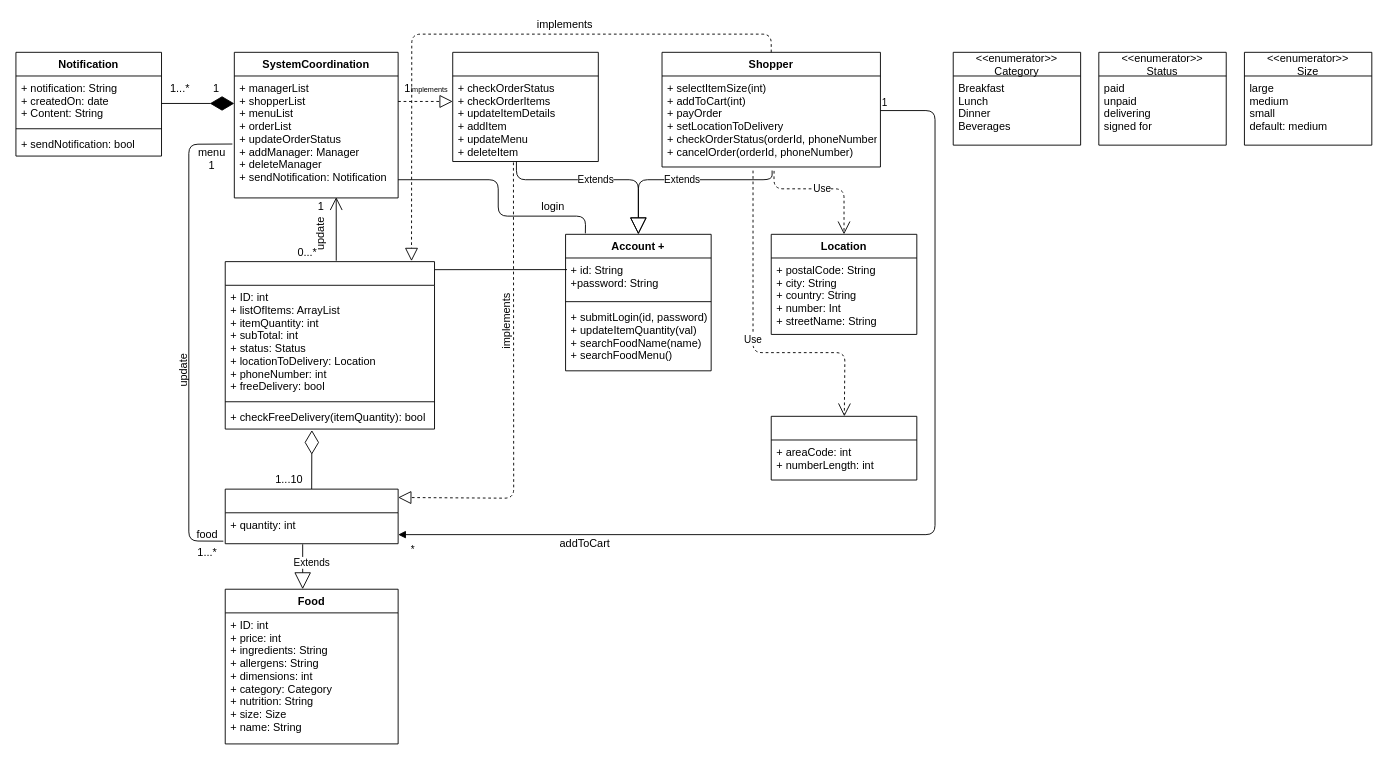
The diagram is 1388 pixels wide and 762 high, and some of its shapes have lost their labels. Here are the shapes that lost their labels. From the top down, the box of each, then its label:
(452, 51, 598, 162): Manager
(224, 261, 435, 429): Order
(770, 415, 917, 480): PhoneNumber
(224, 488, 398, 544): FoodItem
